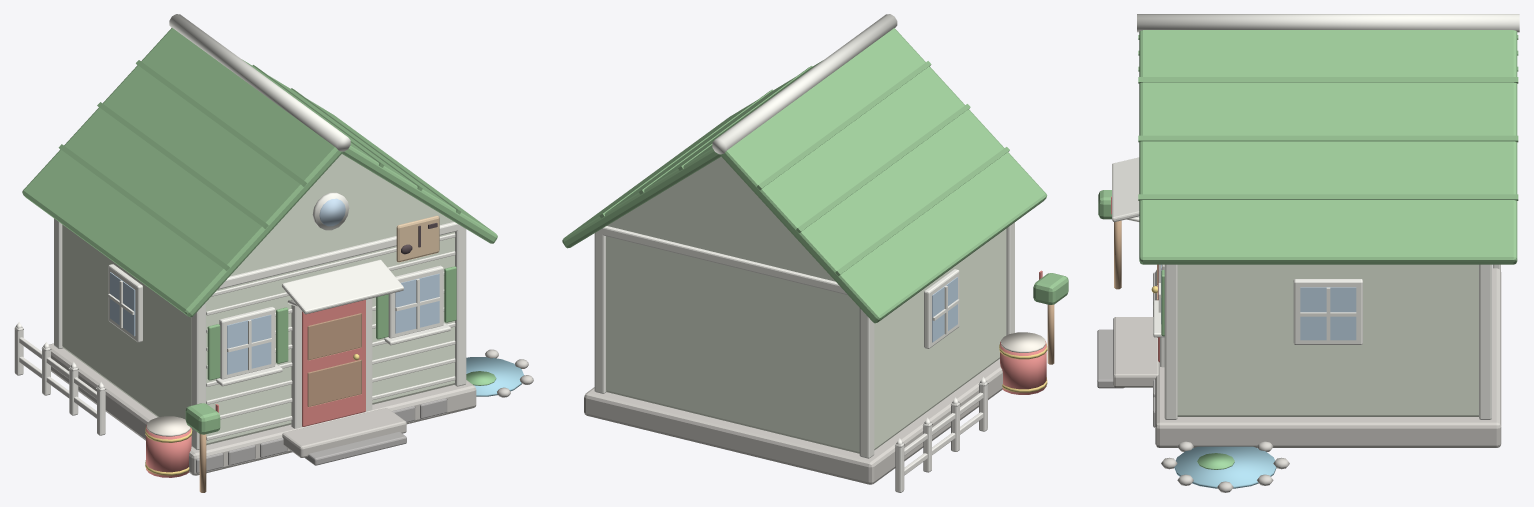
Rendered from casa_bento.glb.
The picture shows the model from 3 angles, left to right: view 1: azimuth 30°, elevation 25°; view 2: azimuth 150°, elevation 25°; view 3: azimuth 270°, elevation 25°; orthographic projection. The views are drawn at different scales.
Parts seen in each view (by area): view 1: casa_bento; view 2: casa_bento; view 3: casa_bento.
Part boxes in pixels (x1=…): casa_bento: x1=14, y1=14, x2=533, y2=492; casa_bento: x1=562, y1=14, x2=1068, y2=492; casa_bento: x1=1097, y1=14, x2=1519, y2=492.
Size of the model in its own units: 5.58 by 4.2 by 4.52.
